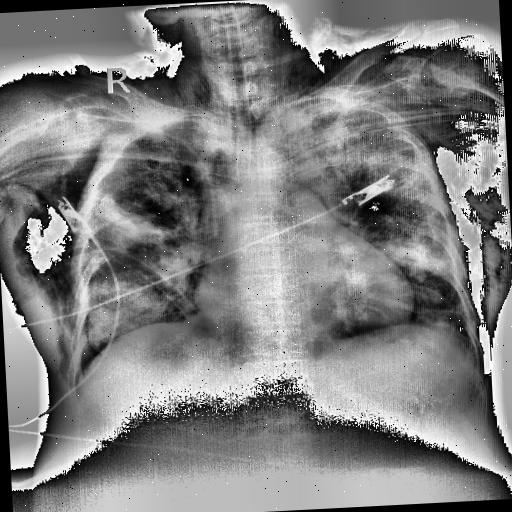12- Pneumothorax: (75, 310, 96, 371)
3- Cardiomegaly: (196, 249, 416, 340), (197, 270, 417, 339)
4- Consolidation: (280, 101, 452, 285), (330, 116, 448, 290), (84, 192, 182, 348), (84, 270, 174, 348), (82, 186, 145, 254)
7- Lung Opacity: (272, 107, 464, 383), (72, 128, 228, 384), (330, 116, 448, 290), (84, 270, 174, 348), (82, 186, 145, 254)
9- Other lesion: (7, 94, 255, 424), (289, 85, 512, 400), (261, 83, 512, 345), (4, 94, 246, 346), (0, 140, 108, 408), (426, 118, 512, 399)
